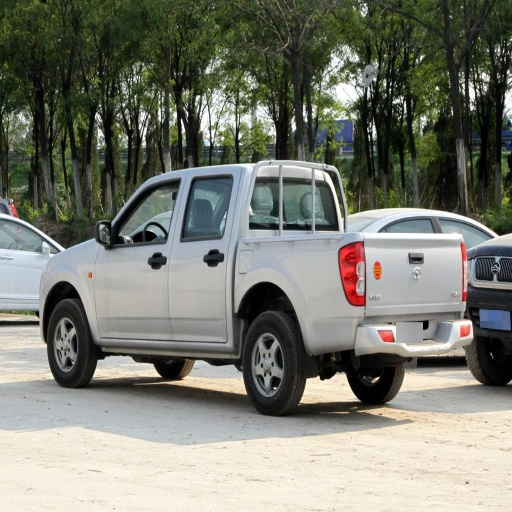back_bumper: (350, 300, 477, 358)
back_left_door: (168, 174, 233, 337)
trunk: (230, 231, 485, 354)
